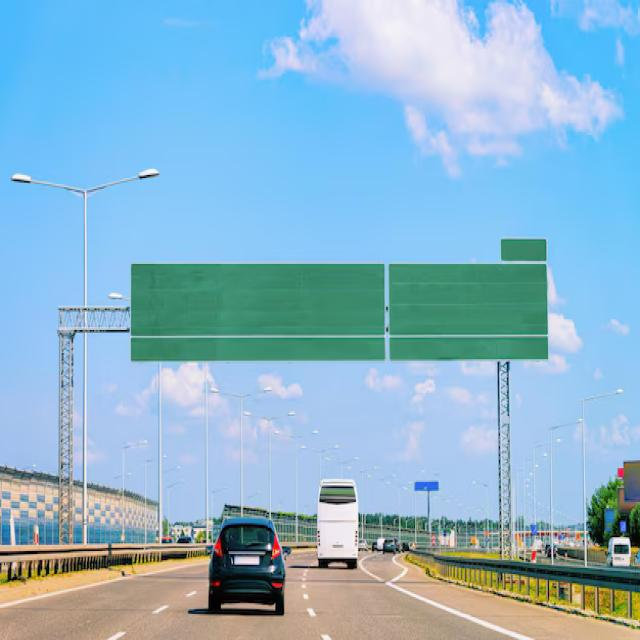Billboard_overhead: (129, 260, 392, 365), (389, 230, 558, 369)
Billboard_overhead_small: (411, 476, 449, 494)
Billboards: (617, 456, 639, 513)
Roadcorner: (354, 544, 555, 638), (1, 555, 209, 623), (391, 538, 414, 587)
Roadlane: (92, 573, 207, 638), (287, 543, 351, 638)
